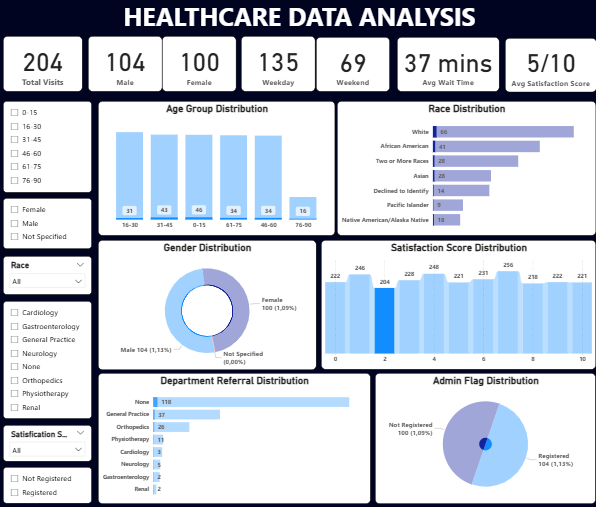

The page's visual inventory and layout, read from the dashboard file:
{"tool":"powerbi","page":{"name":"Page 2","canvas":[1282,1086],"ordinal":1},"visuals":[{"type":"card","fields":{"Values":["Count(patient table.patient_id)"]},"box":[5.7,80,170,118.6],"z":0},{"type":"card","fields":{"Values":["CountNonNull(patient table.patient_gender)"]},"box":[187.7,79.8,158.6,118.6],"z":1000},{"type":"card","fields":{"Values":["CountNonNull(patient table.patient_gender)"]},"box":[347,79.7,159.4,118.8],"z":2000},{"type":"card","fields":{"Values":["date_time table.Avg Wait Time"]},"box":[847.8,81.2,218.8,117.4],"z":3000},{"type":"card","fields":{"Values":["date_time table.Avg Satisfication Score"]},"box":[1079.7,82.6,195.7,115.9],"z":4000},{"type":"card","fields":{"Values":["CountNonNull(date_time table.weekday/weekend)"]},"box":[515.9,79.7,159.4,118.8],"z":5000},{"type":"card","fields":{"Values":["CountNonNull(date_time table.weekday/weekend)"]},"box":[675.4,81.2,158,117.4],"z":6000},{"type":"textbox","box":[0,0,1280,74.3],"z":7000},{"type":"slicer","fields":{"Values":["patient table.patient_race"]},"box":[5.8,549.3,189.9,82.6],"z":8000},{"type":"slicer","fields":{"Values":["patient table.age_group"]},"box":[5.8,217.4,189.9,195.7],"z":9000},{"type":"slicer","fields":{"Values":["patient table.patient_gender"]},"box":[5.8,426.1,189.9,108.7],"z":10000},{"type":"slicer","fields":{"Values":["activity table.department_referral"]},"box":[5.8,644.9,189.9,252.2],"z":11000},{"type":"slicer","fields":{"Values":["activity table.satisfication_score"]},"box":[5.8,910.1,189.9,78.3],"z":12000},{"type":"lineStackedColumnComboChart","title":"Age Group Distribution","fields":{"Category":["patient table.age_bucket"],"Y":["CountNonNull(patient table.age_bucket)"]},"box":[208.7,218.8,507.2,288.4],"z":13000},{"type":"clusteredBarChart","title":"Race Distribution","fields":{"Category":["patient table.patient_race"],"Y":["CountNonNull(patient table.patient_race)"]},"box":[720.3,218.8,553.6,288.4],"z":14000},{"type":"donutChart","title":"Gender Distribution","fields":{"Category":["patient table.patient_gender"],"Y":["CountNonNull(patient table.patient_gender)"]},"box":[208.7,514.5,466.7,278.3],"z":15000},{"type":"clusteredBarChart","title":"Department Referral Distribution","fields":{"Category":["activity table.department_referral"],"Y":["CountNonNull(activity table.department_referral)"]},"box":[208.7,800,582.6,279.7],"z":16000},{"type":"columnChart","title":"Satisfaction Score Distribution","fields":{"Category":["activity table.satisfication_score"],"Y":["CountNonNull(activity table.satisfication_score)"]},"box":[685.5,514.5,588.4,276.8],"z":17000},{"type":"pieChart","title":"Admin Flag Distribution","fields":{"Category":["activity table.patient_admin_flag"],"Y":["CountNonNull(activity table.patient_admin_flag)"]},"box":[801.4,800,472.5,279.7],"z":18000},{"type":"slicer","fields":{"Values":["activity table.patient_admin_flag"]},"box":[5.8,1001.4,189.9,78.3],"z":19000}]}

Visuals, with their boxes in screenshot pixels (x1, y1, x2, y2), scaled from the page's 1282x1086 canvas onto the 596x507 screenshot:
card - Count(patient table.patient_id): bbox(3, 37, 82, 93)
card - CountNonNull(patient table.patient_gender): bbox(87, 37, 161, 93)
card - CountNonNull(patient table.patient_gender): bbox(161, 37, 235, 93)
card - date_time table.Avg Wait Time: bbox(394, 38, 496, 93)
card - date_time table.Avg Satisfication Score: bbox(502, 39, 593, 93)
card - CountNonNull(date_time table.weekday/weekend): bbox(240, 37, 314, 93)
card - CountNonNull(date_time table.weekday/weekend): bbox(314, 38, 387, 93)
textbox: bbox(0, 0, 595, 35)
slicer - patient table.patient_race: bbox(3, 256, 91, 295)
slicer - patient table.age_group: bbox(3, 101, 91, 193)
slicer - patient table.patient_gender: bbox(3, 199, 91, 250)
slicer - activity table.department_referral: bbox(3, 301, 91, 419)
slicer - activity table.satisfication_score: bbox(3, 425, 91, 461)
"Age Group Distribution" lineStackedColumnComboChart: bbox(97, 102, 333, 237)
"Race Distribution" clusteredBarChart: bbox(335, 102, 592, 237)
"Gender Distribution" donutChart: bbox(97, 240, 314, 370)
"Department Referral Distribution" clusteredBarChart: bbox(97, 373, 368, 504)
"Satisfaction Score Distribution" columnChart: bbox(319, 240, 592, 369)
"Admin Flag Distribution" pieChart: bbox(373, 373, 592, 504)
slicer - activity table.patient_admin_flag: bbox(3, 468, 91, 504)
